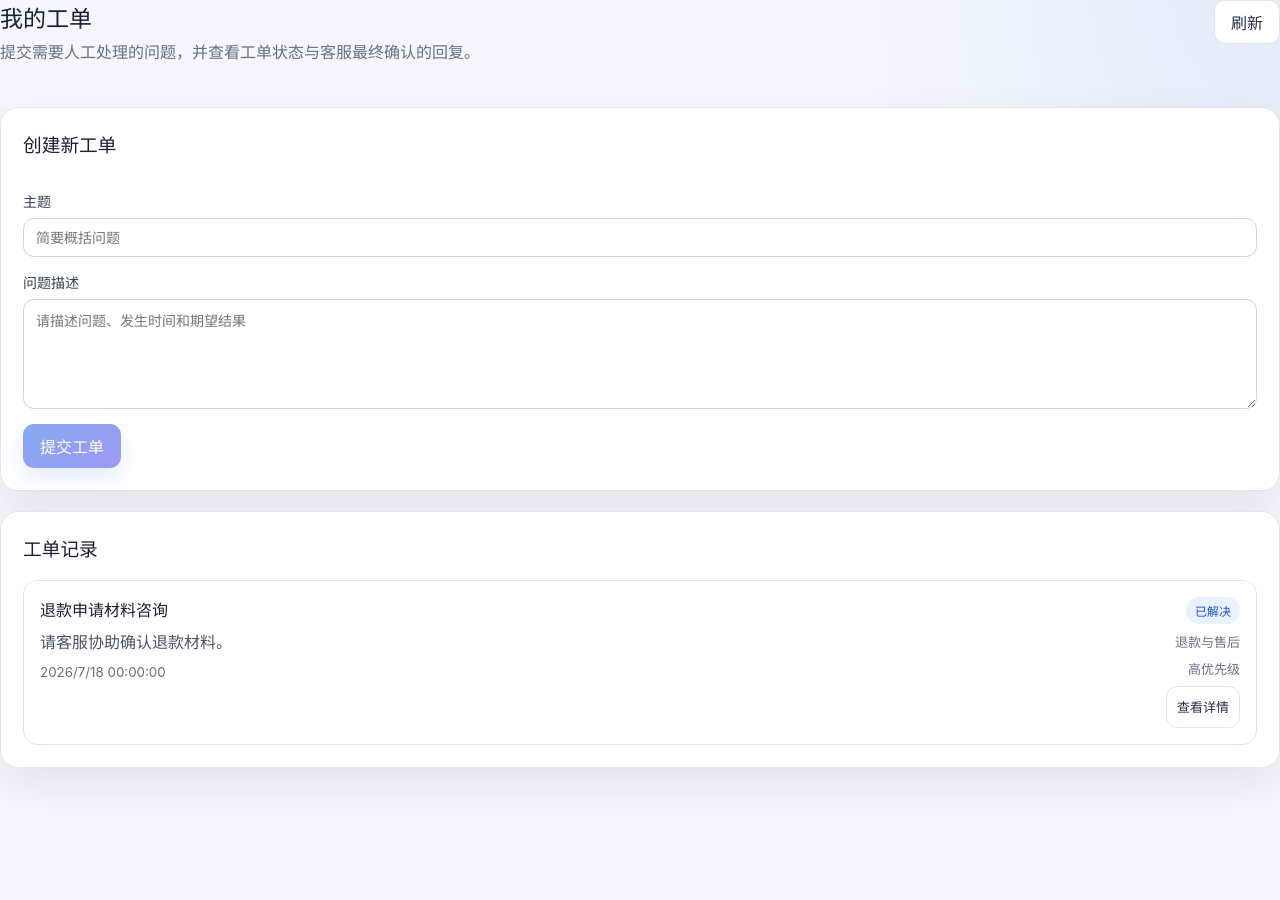
Test: MyTicketsView › loads and displays the confirmed customer-service reply on demand
This screenshot has width=1280, height=900.
Click the button "查看详情".
click(1203, 707)  # box [1166,686,1240,728]
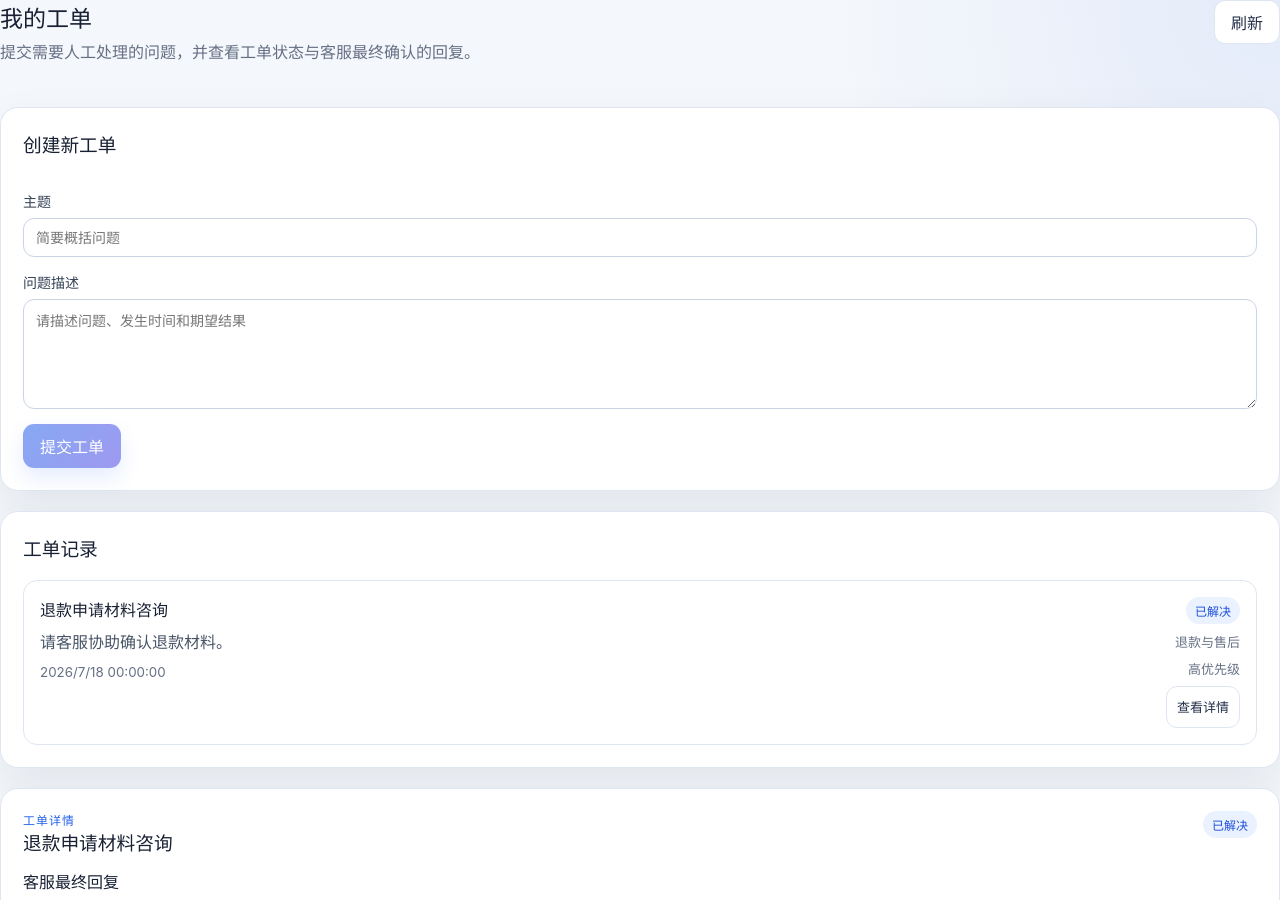
Expected: the text "客服最终回复" is shown, [23,872,119,892]
